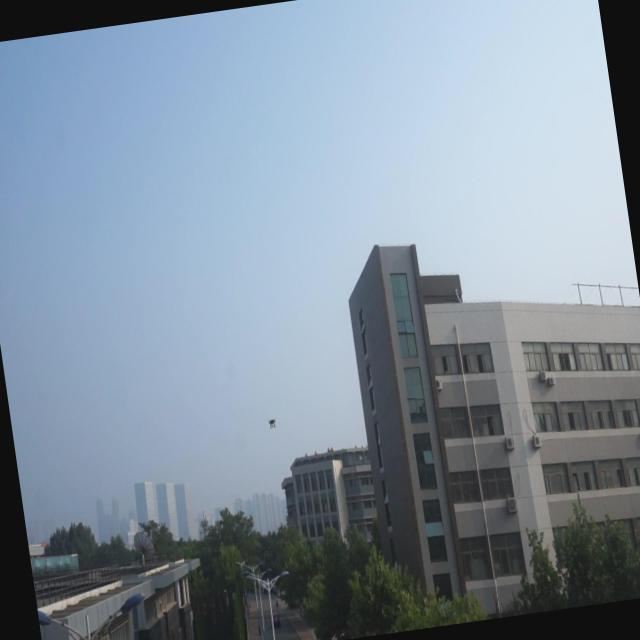drone: (268, 414, 278, 430)
